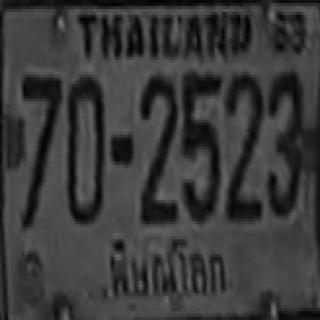N00: (64, 73, 104, 223)
N02: (140, 73, 177, 223), (225, 72, 262, 218), (224, 72, 262, 209), (140, 72, 177, 209)
N03: (264, 69, 302, 215)
N05: (180, 70, 220, 220)
N07: (20, 72, 60, 224), (21, 72, 60, 176)
P46: (101, 232, 233, 304)
